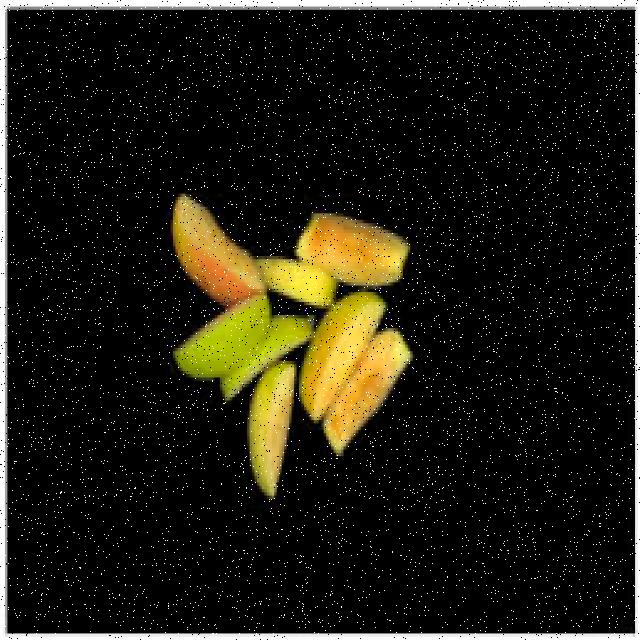Apple: (169, 189, 264, 297), (332, 337, 414, 458), (298, 206, 419, 288), (175, 300, 269, 380), (249, 363, 300, 496)
